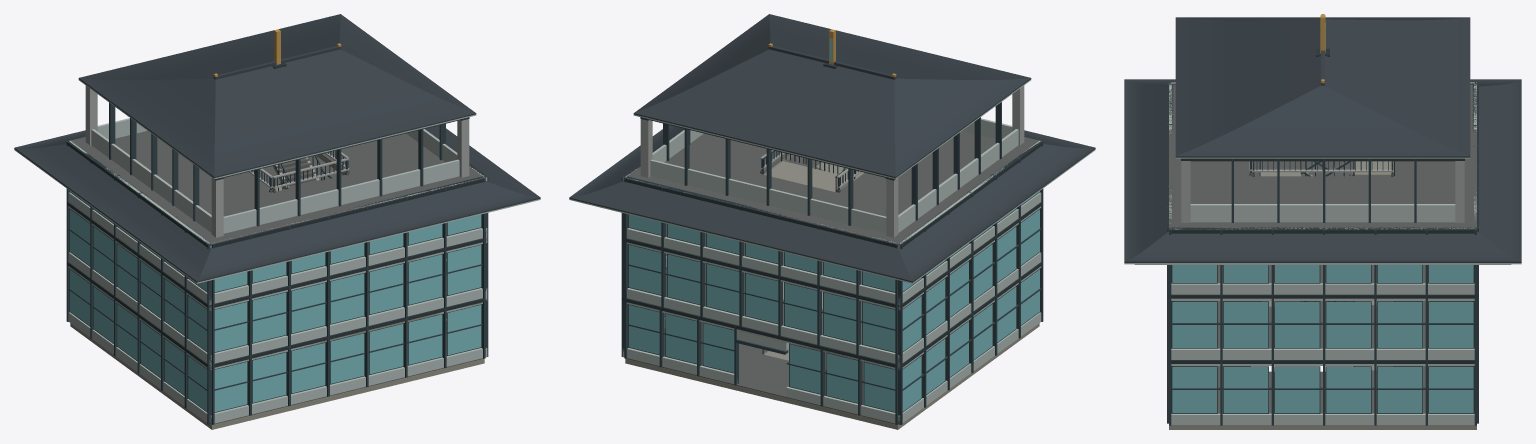
The model's file is visual-far.glb.
The picture shows the model from 3 angles, left to right: view 1: azimuth 30°, elevation 25°; view 2: azimuth 150°, elevation 25°; view 3: azimuth 270°, elevation 25°; orthographic projection. The views are drawn at different scales.
Visible parts, largest first — view 1: 金属框、密封环与独立幕墙玻璃 (×9), 连续瓦檐与金属承板、钢梁 (×2), 石铺面与混凝土承板 (×4), 混凝土足与金属柱 (×3), 双跑连续梁与实体踏步, 石脚与连续金属护栏; view 2: 金属框、密封环与独立幕墙玻璃 (×9), 连续瓦檐与金属承板、钢梁 (×2), 石铺面与混凝土承板 (×2), 混凝土足与金属柱 (×3), 双跑连续梁与实体踏步; view 3: 连续瓦檐与金属承板、钢梁 (×2), 金属框、密封环与独立幕墙玻璃 (×6), 石铺面与混凝土承板 (×4), 混凝土足与金属柱 (×2), 双跑连续梁与实体踏步, 石脚与连续金属护栏.
Part boxes in pixels (<box>): 金属框、密封环与独立幕墙玻璃 (×9): <box>66,102,485,424</box>; 连续瓦檐与金属承板、钢梁 (×2): <box>14,14,540,283</box>; 石铺面与混凝土承板 (×4): <box>70,130,484,429</box>; 混凝土足与金属柱 (×3): <box>85,85,469,292</box>; 双跑连续梁与实体踏步: <box>268,155,332,192</box>; 石脚与连续金属护栏: <box>272,158,348,192</box>; 金属框、密封环与独立幕墙玻璃 (×9): <box>624,102,1043,424</box>; 连续瓦檐与金属承板、钢梁 (×2): <box>569,14,1095,283</box>; 石铺面与混凝土承板 (×2): <box>625,130,1039,429</box>; 混凝土足与金属柱 (×3): <box>640,85,1024,292</box>; 双跑连续梁与实体踏步: <box>762,150,864,192</box>; 连续瓦檐与金属承板、钢梁 (×2): <box>1124,14,1521,264</box>; 金属框、密封环与独立幕墙玻璃 (×6): <box>1167,83,1478,425</box>; 石铺面与混凝土承板 (×4): <box>1169,84,1476,429</box>; 混凝土足与金属柱 (×2): <box>1181,158,1464,222</box>; 双跑连续梁与实体踏步: <box>1259,161,1394,176</box>; 石脚与连续金属护栏: <box>1252,161,1393,176</box>.
Size of the model in its own units: 25.2 by 22 by 23.2.
Materials: 14 (14 with a texture image).
